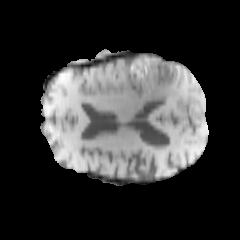glioma: (101, 54, 183, 106)
